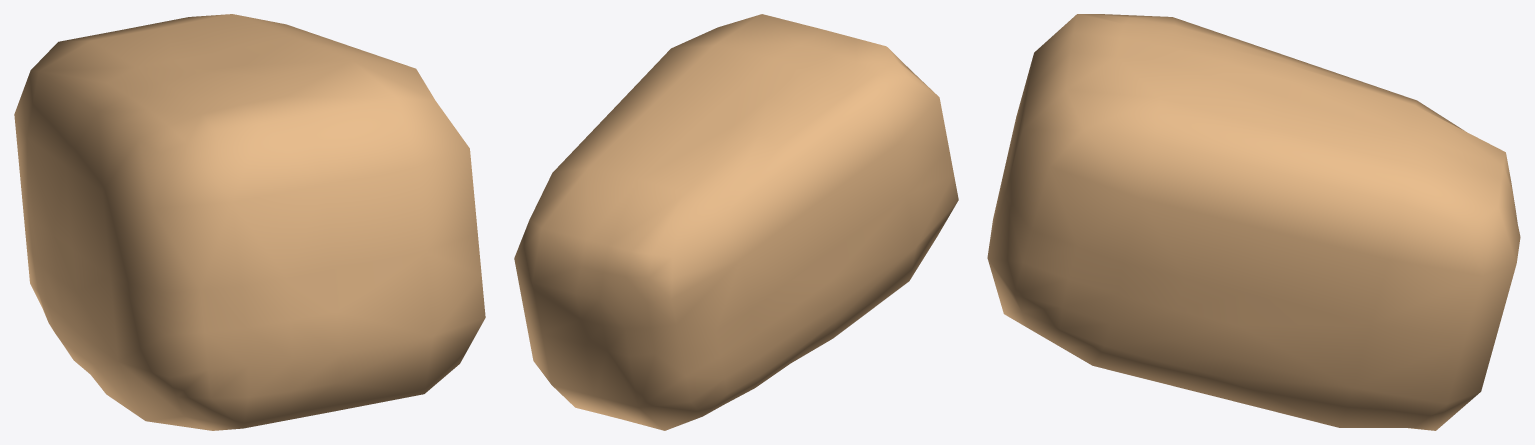
File: thumb_02_r.dae
3 views of the same model, side by side, from view 1: azimuth 30°, elevation 25°; view 2: azimuth 150°, elevation 25°; view 3: azimuth 270°, elevation 25° (orthographic). The views are drawn at different scales.
Parts seen in each view (by area): view 1: skin_geo_thumb_02_r; view 2: skin_geo_thumb_02_r; view 3: skin_geo_thumb_02_r.
Part boxes in pixels (x1,y1,x2,y2): skin_geo_thumb_02_r: [14, 14, 485, 430]; skin_geo_thumb_02_r: [514, 14, 958, 430]; skin_geo_thumb_02_r: [987, 14, 1520, 430].
Size of the model in its own units: 0.0257 by 0.04 by 0.0272.
